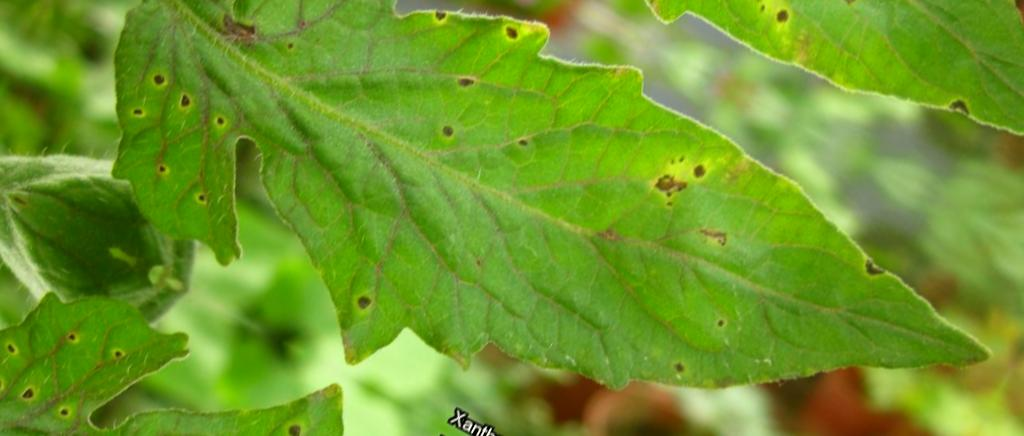Tomato leaf bacterial spot: (37, 0, 1024, 436)
